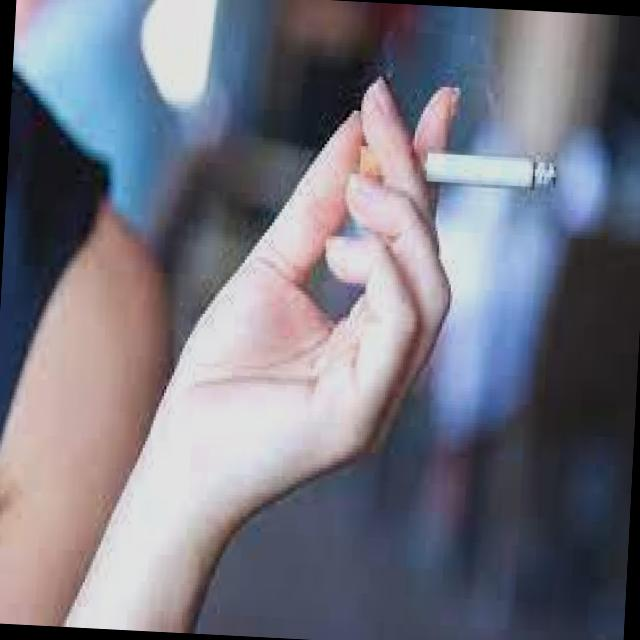smoke: (350, 142, 559, 195)
